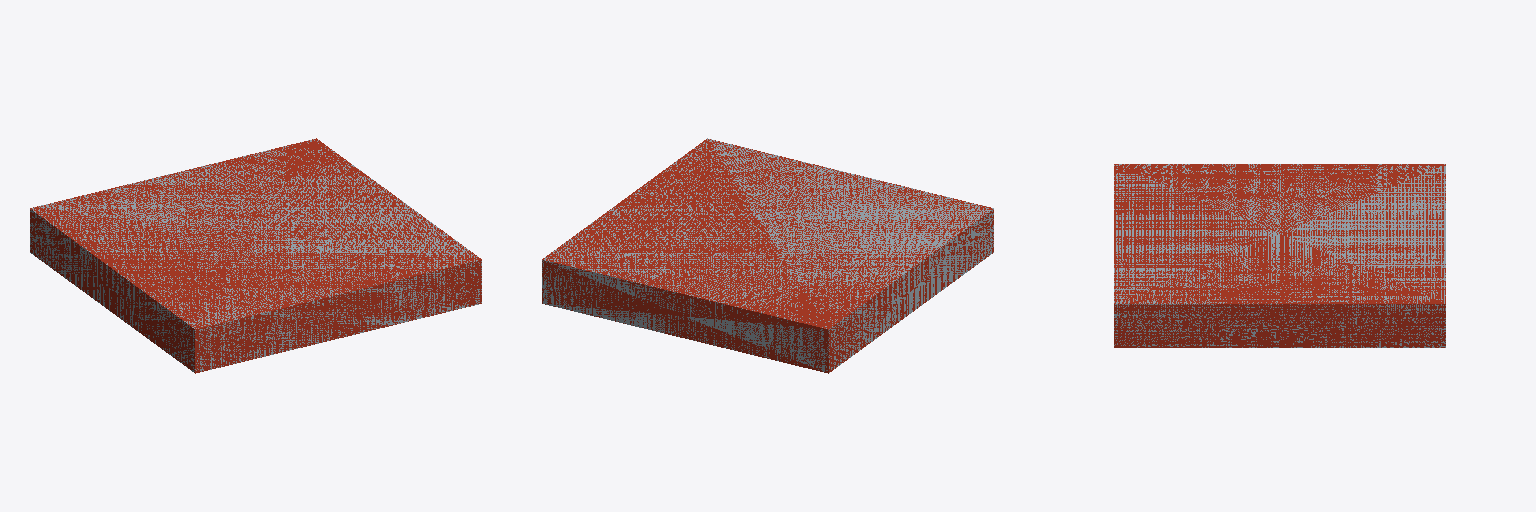
The model's file is Block_01.obj.
The picture shows the model from 3 angles: view 1: azimuth 30°, elevation 25°; view 2: azimuth 150°, elevation 25°; view 3: azimuth 270°, elevation 25°; orthographic projection.
Visible parts, largest first — view 1: Mesh1 Block Model; view 2: Mesh1 Block Model; view 3: Mesh1 Block Model.
Boxes of the visible parts, box(x1,y1,x2,y2) form: Mesh1 Block Model: box(30, 138, 481, 373); Mesh1 Block Model: box(542, 138, 993, 373); Mesh1 Block Model: box(1114, 164, 1445, 347).
Bounding box in the file's own units: 3 × 0.44 × 3.